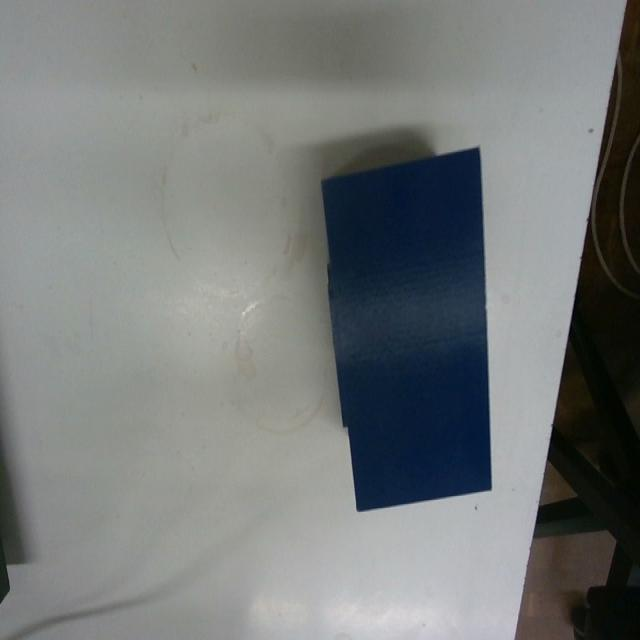Blue Cuboid: (318, 143, 493, 512)
